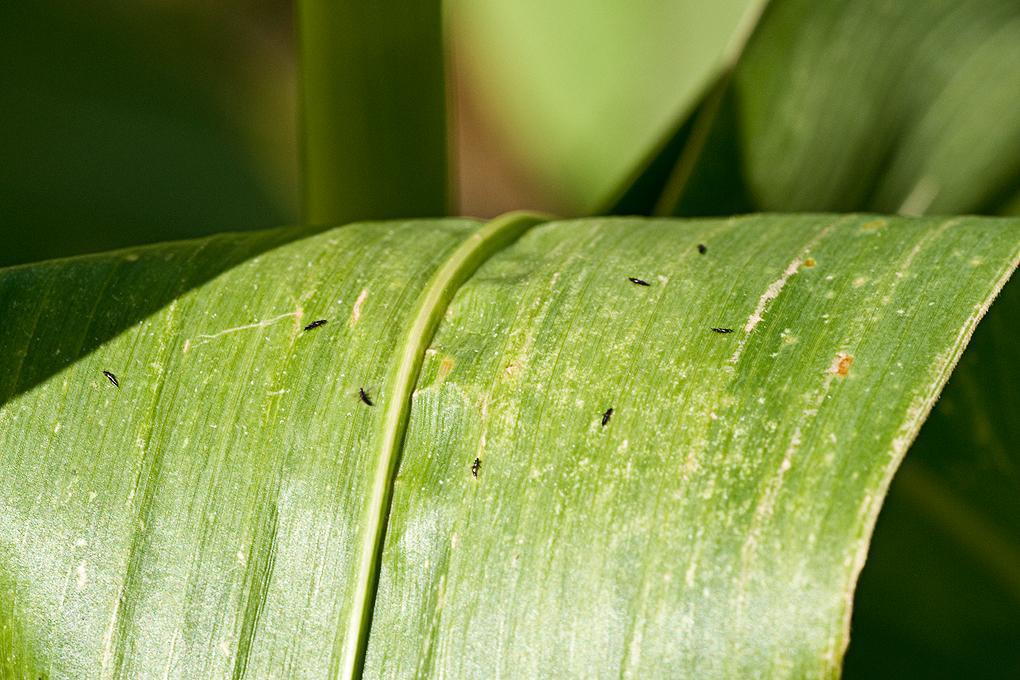Phlaeothripidae: (299, 314, 333, 333), (352, 383, 373, 411), (99, 369, 125, 390), (626, 275, 652, 289), (708, 325, 734, 338), (470, 453, 482, 480), (598, 407, 612, 427)
